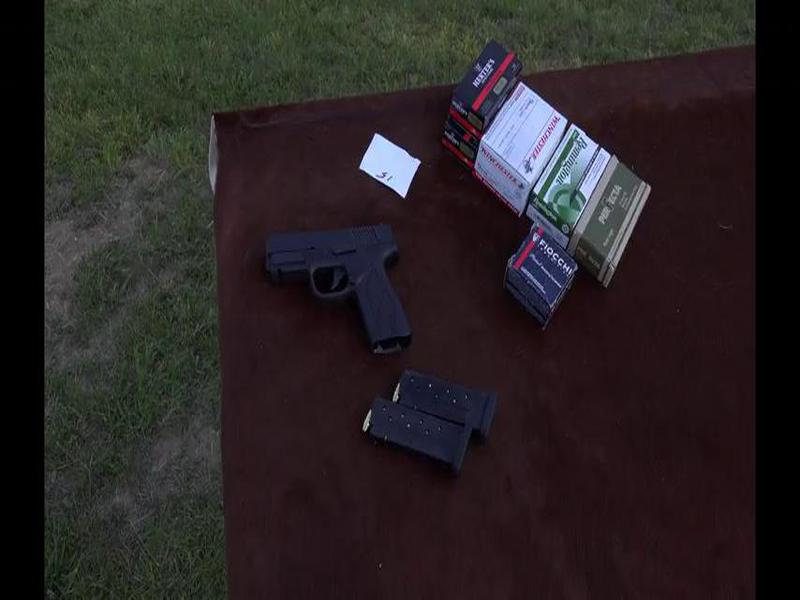Pistola: (250, 223, 427, 360)
